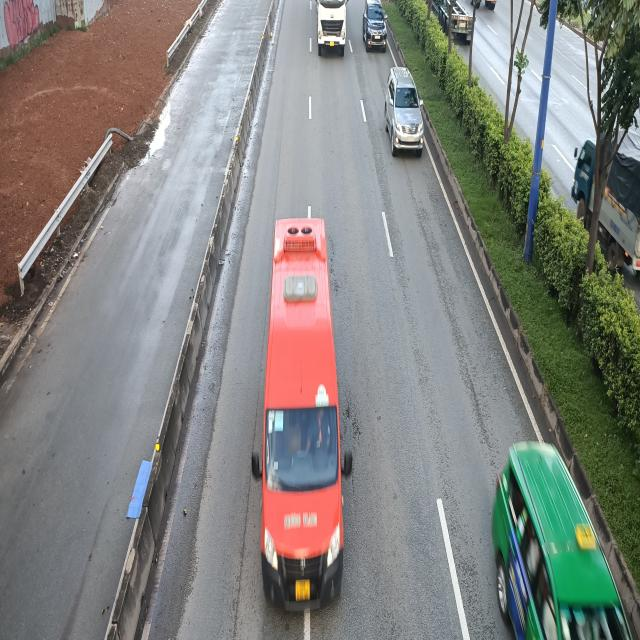car: (386, 68, 426, 160), (363, 1, 389, 51)
van: (252, 216, 353, 609)
